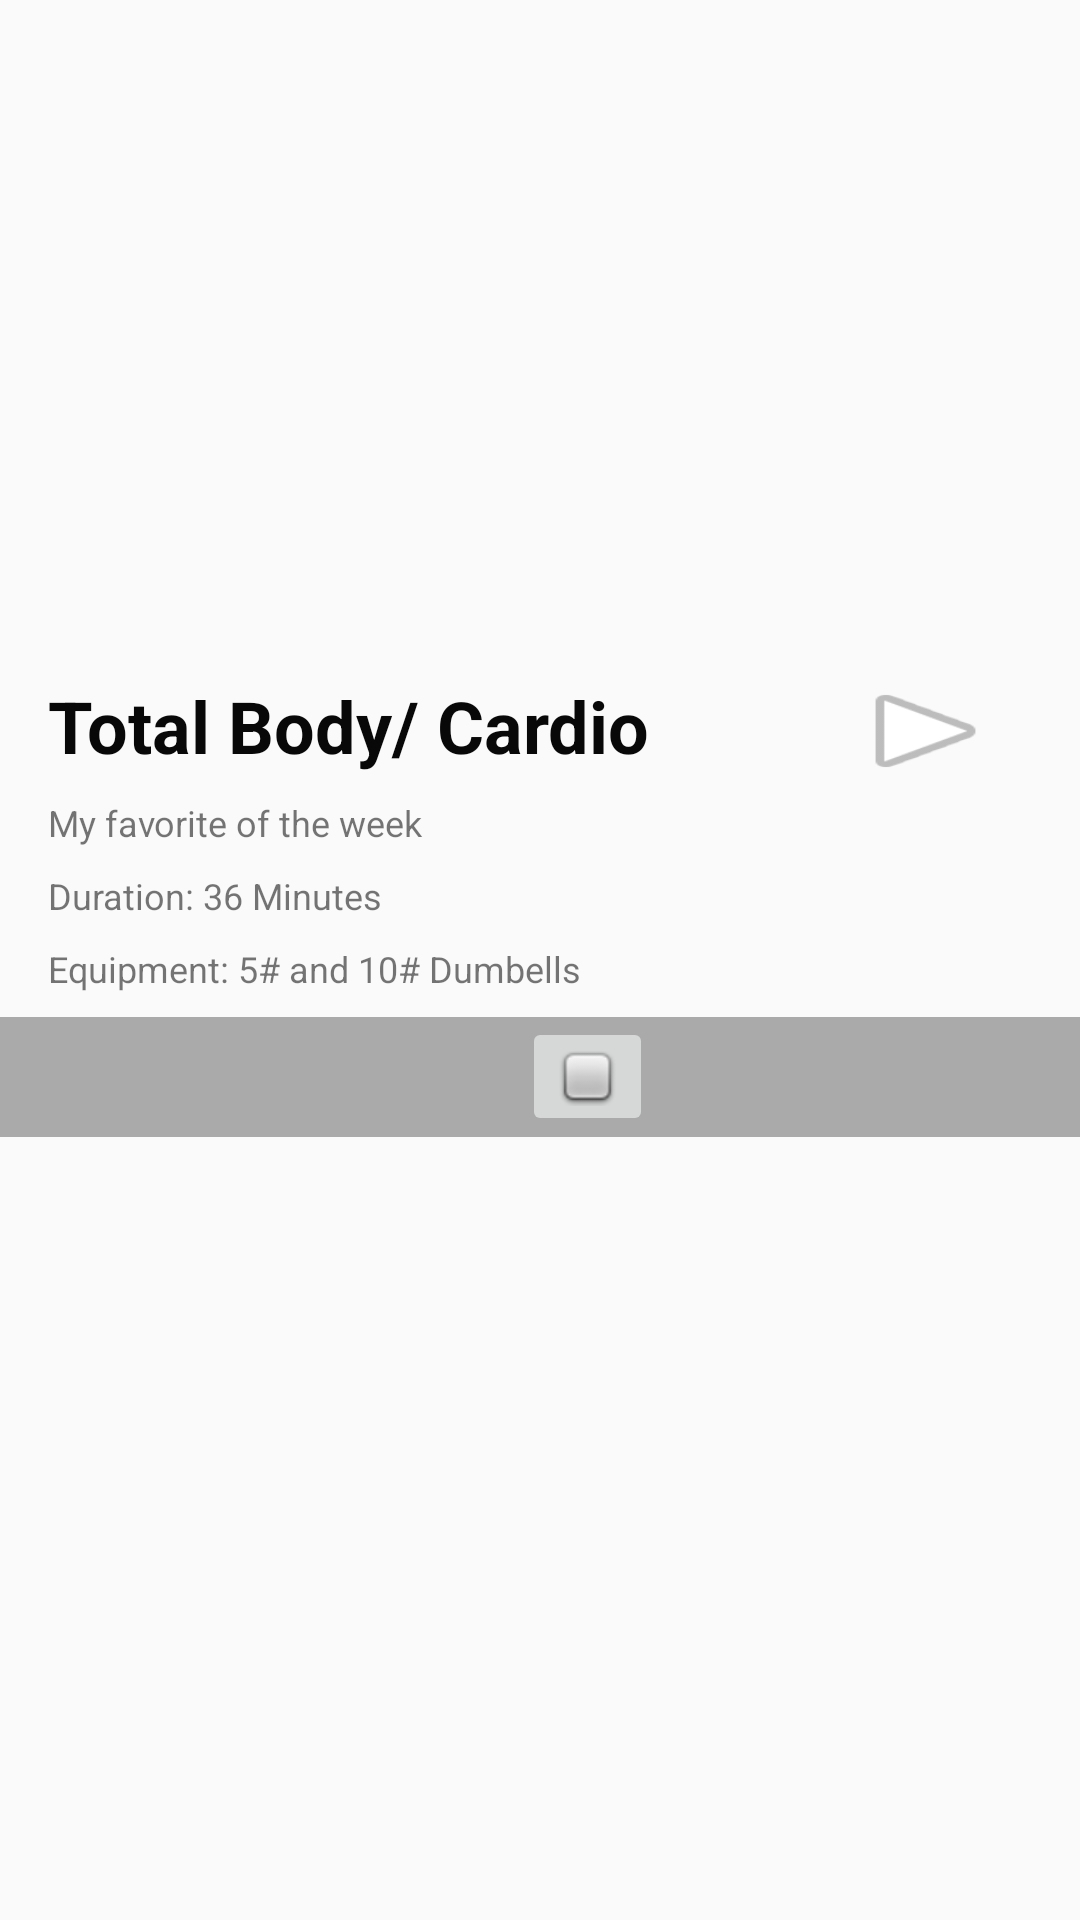

Icon bounding boxes for this 1080 × 1920 phone screenshot, format (x1, y1, x2, y2):
play: (875, 695, 976, 767)
